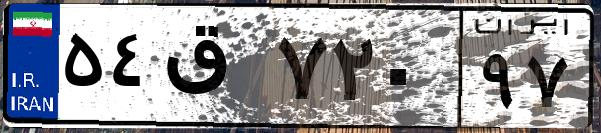0: (385, 28, 445, 110)
2: (330, 28, 385, 110)
4: (110, 28, 158, 98)
5: (57, 26, 110, 100)
7: (270, 28, 330, 110), (525, 38, 570, 115)
9: (475, 38, 525, 113)
ق: (158, 20, 270, 120)
